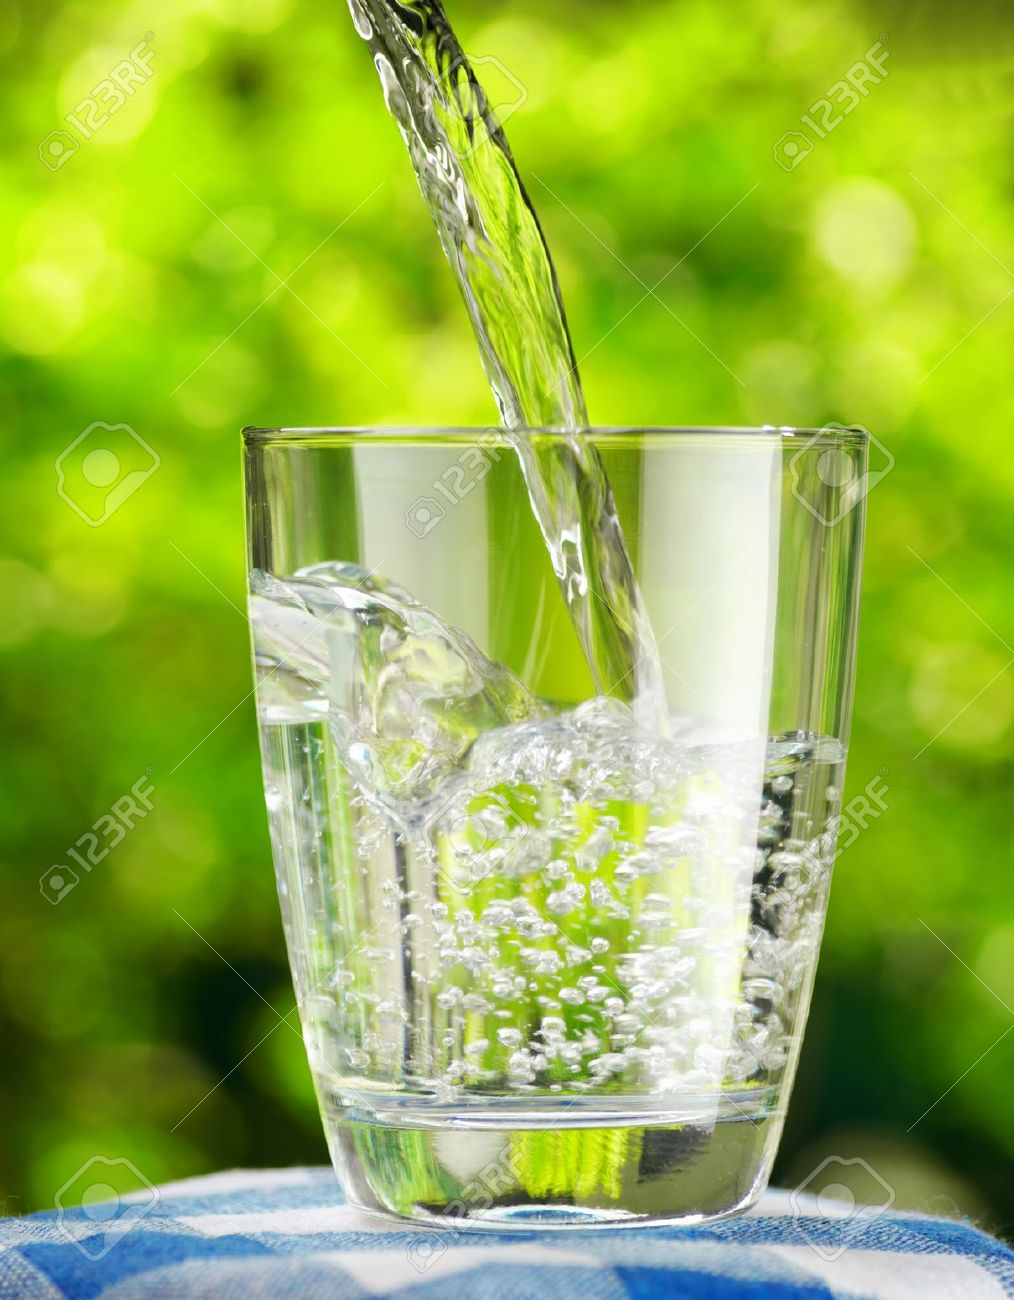glass of water: (221, 324, 882, 1260)
